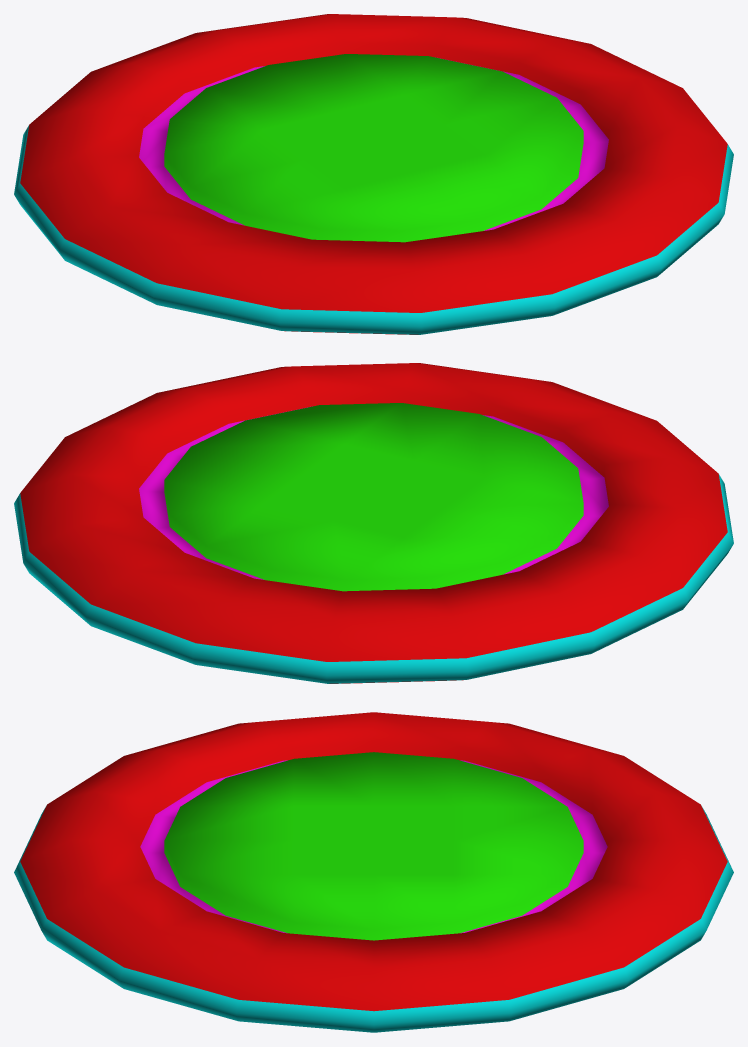
File: CompoundDiscus.glb
3 views of the same model, one above another, from view 1: azimuth 30°, elevation 25°; view 2: azimuth 150°, elevation 25°; view 3: azimuth 270°, elevation 25° (orthographic).
Visible parts, largest first — view 1: Discus; view 2: Discus; view 3: Discus.
Boxes of the visible parts, x1,y1,x2,y2 form: Discus: (14,14,733,334); Discus: (14,363,733,683); Discus: (14,712,733,1032).
Size of the model in its own units: 0.1186 by 0.0116 by 0.1186.
